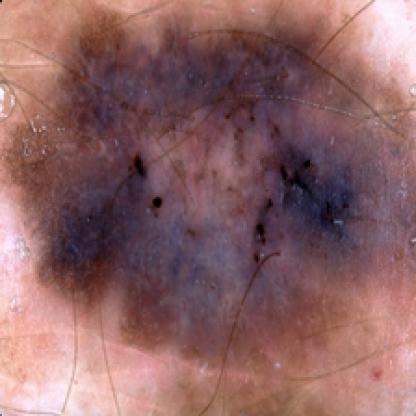malignant: (41, 26, 394, 325)
